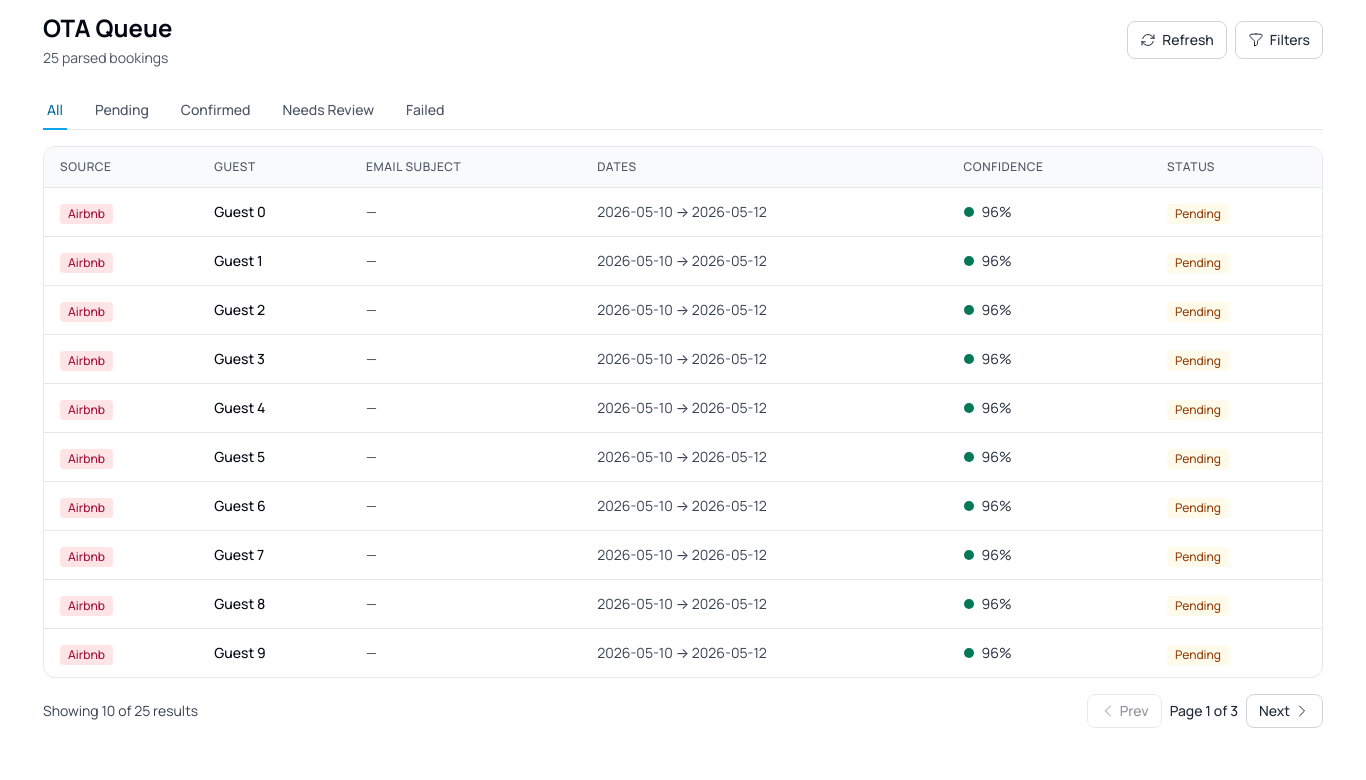
Test: OtaQueue › paginates results
expect the text "Guest 0" is shown: met, box [198,188,350,236]
expect the text "Page 1 of 3" is shown: met, box [1170,701,1238,721]
Click the button "Next": x=1284, y=711 [1246,694,1323,728]
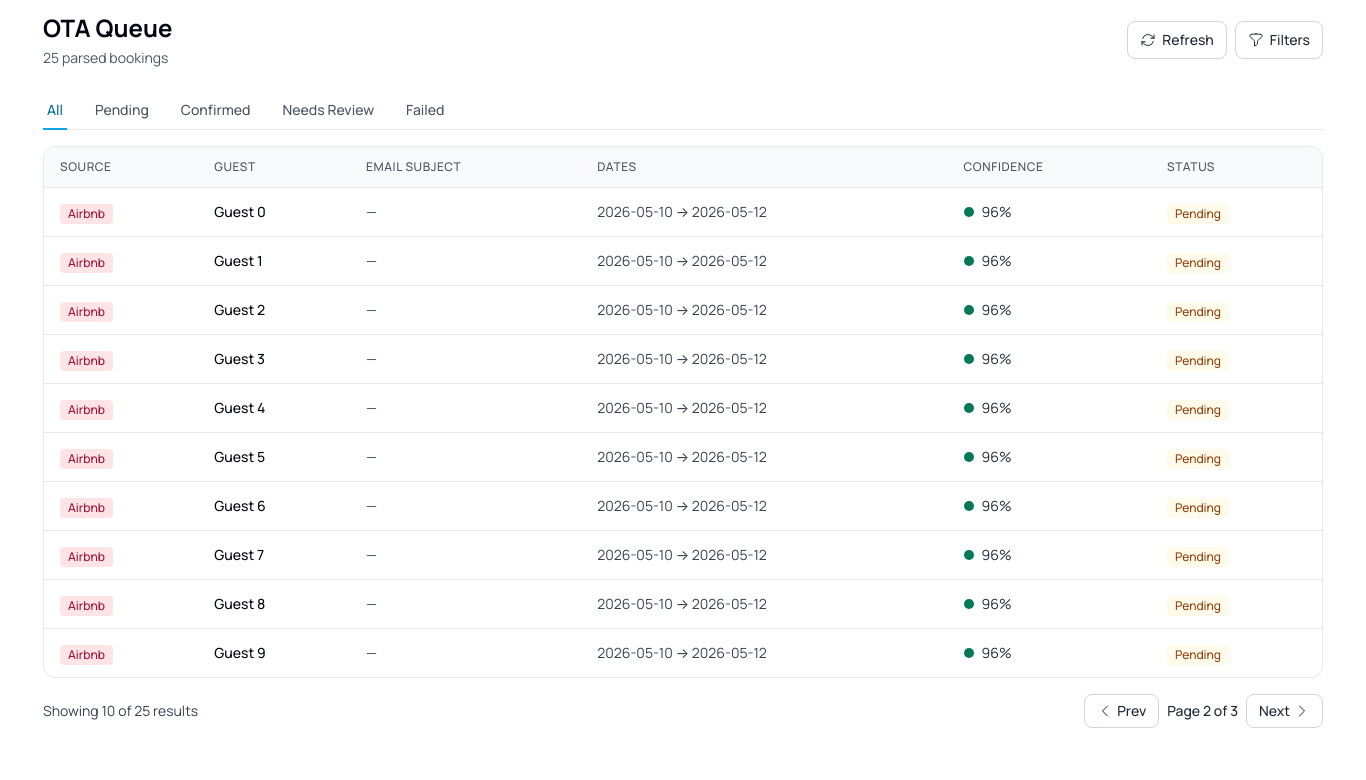
expect the text "Page 2 of 3" is shown: met, box [1167,701,1238,721]
